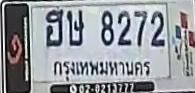2: (150, 10, 164, 46), (117, 10, 130, 45)
7: (133, 10, 147, 45)
8: (100, 10, 113, 45)
A39: (66, 9, 84, 45)
A44: (45, 8, 63, 46)
BKK: (52, 56, 154, 82)
